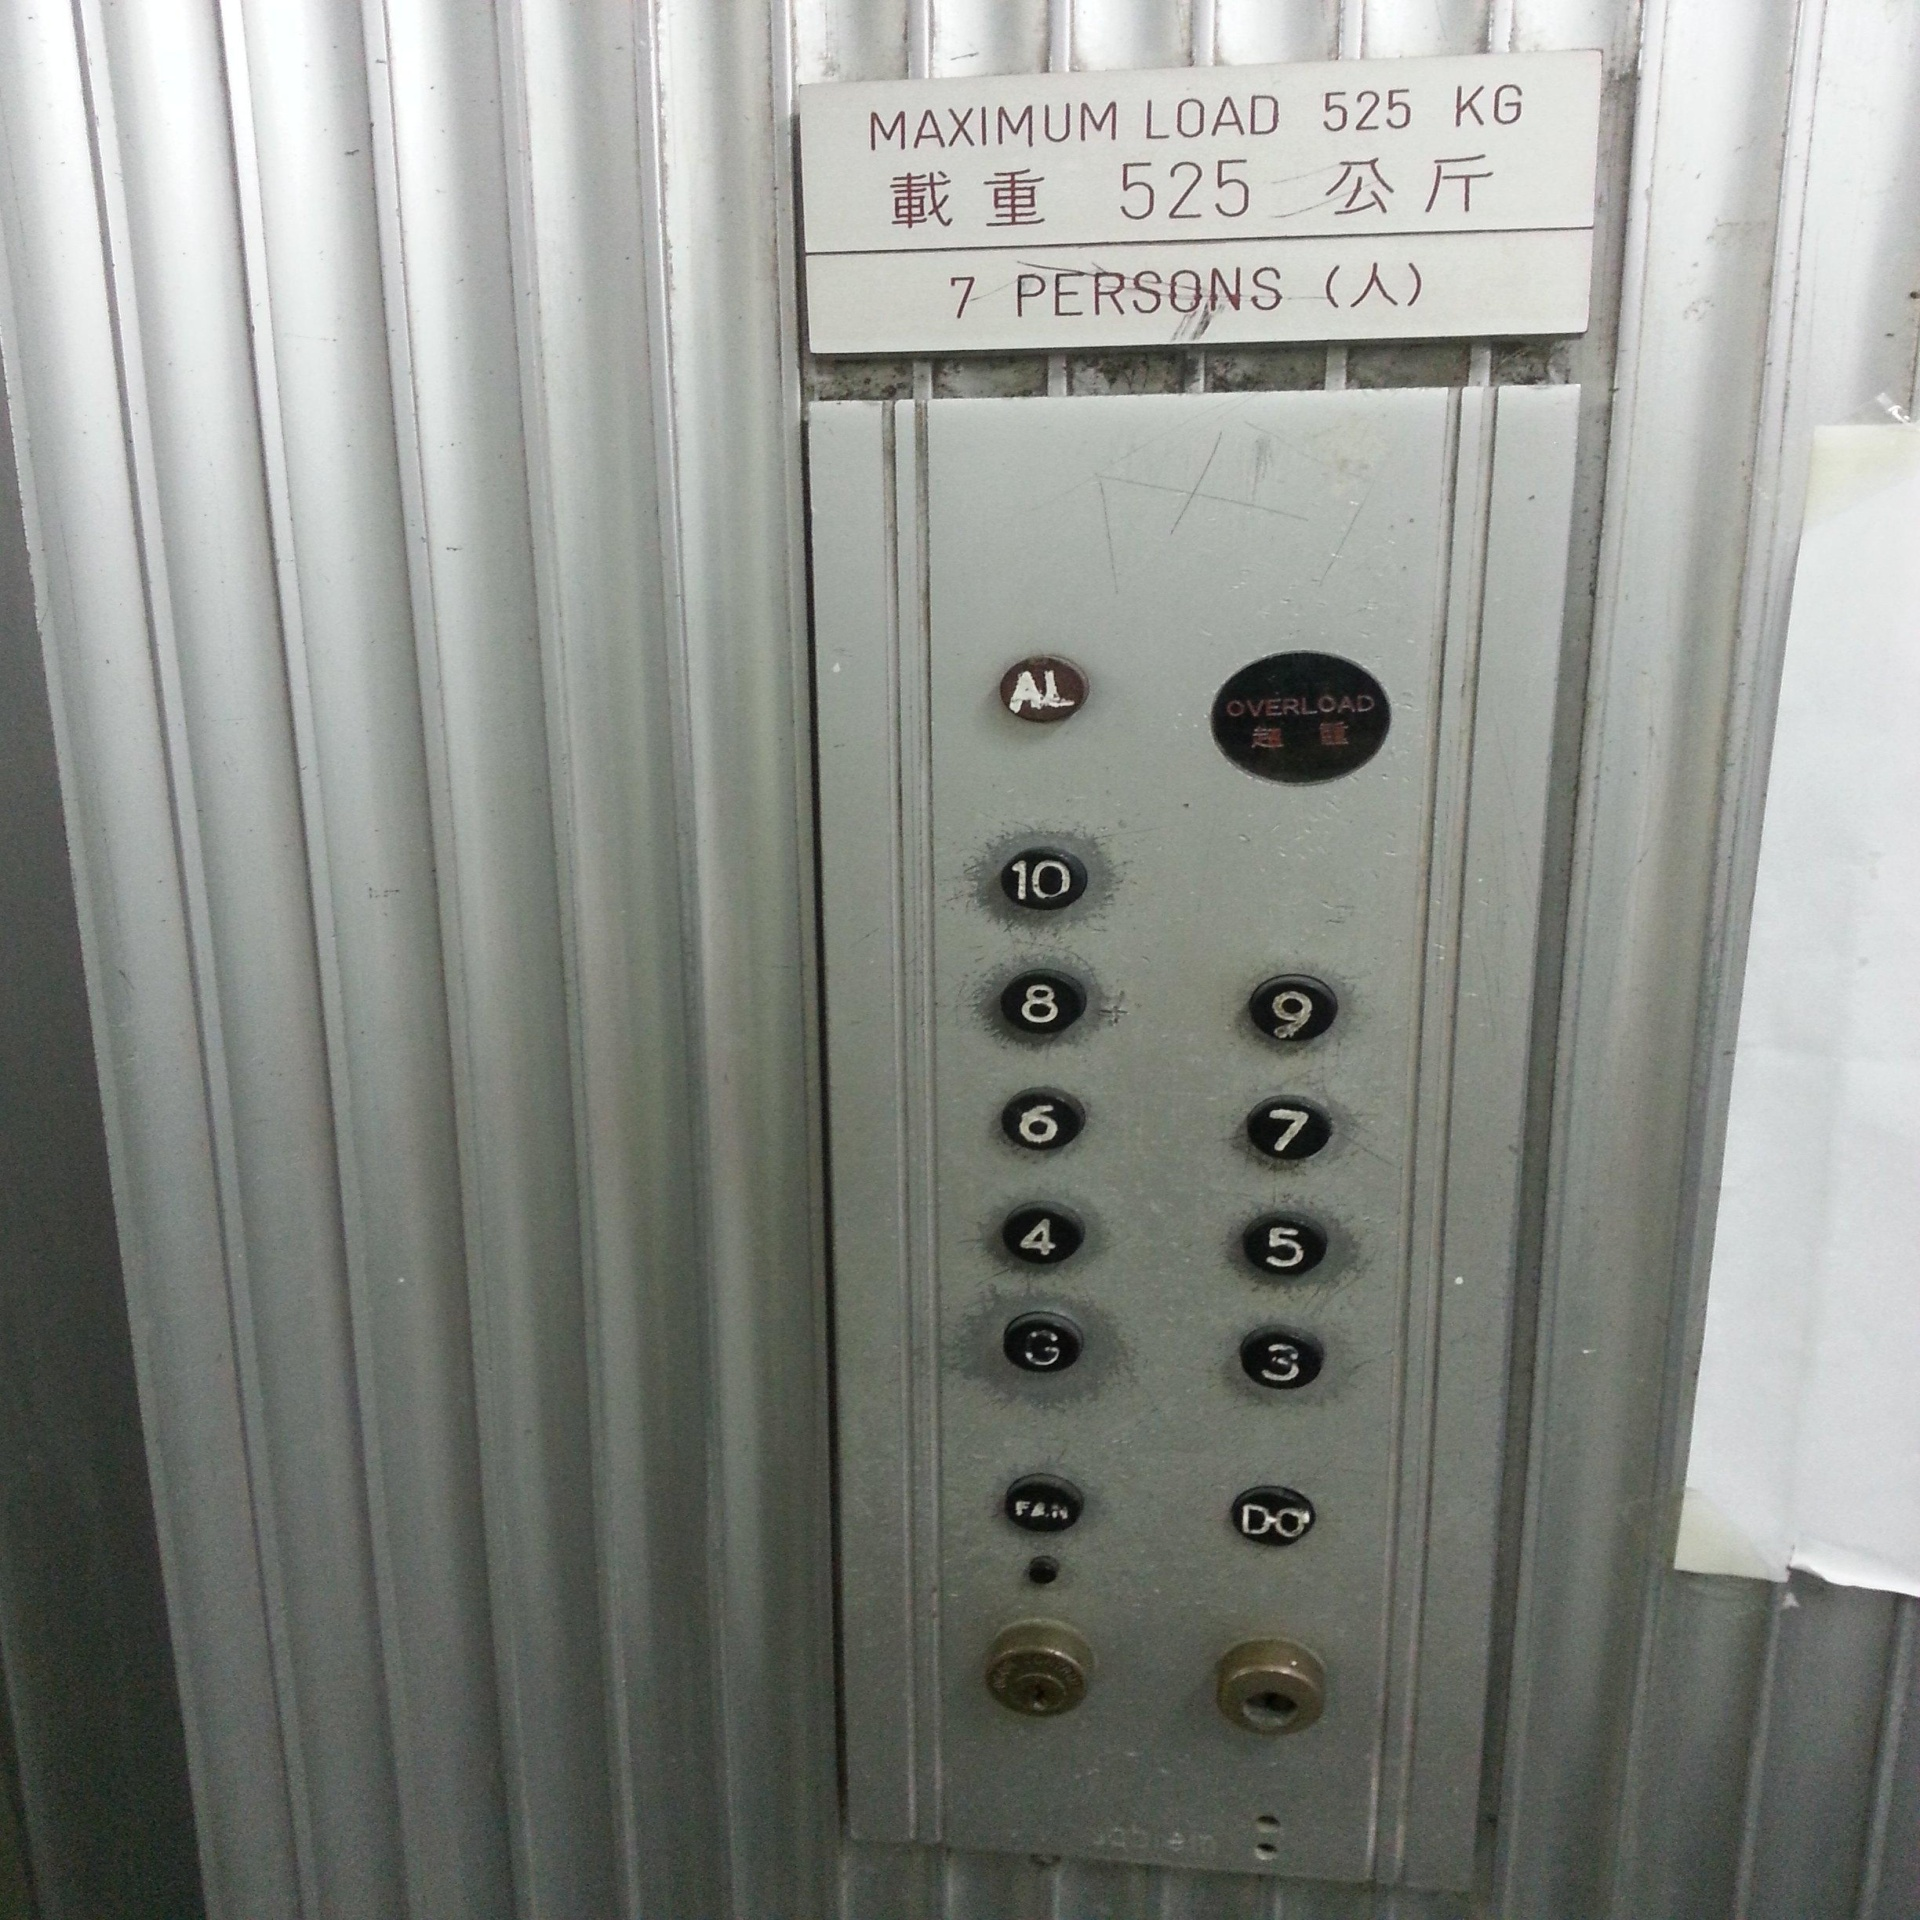10: (997, 846, 1090, 913)
3: (1238, 1322, 1327, 1391)
4: (999, 1197, 1088, 1266)
5: (1240, 1208, 1329, 1278)
6: (999, 1083, 1088, 1153)
7: (1245, 1092, 1333, 1162)
8: (997, 965, 1088, 1036)
9: (1245, 971, 1340, 1044)
AL: (999, 651, 1092, 724)
DO: (1227, 1482, 1317, 1547)
G: (999, 1306, 1087, 1377)
keyhole: (1211, 1635, 1333, 1737), (981, 1616, 1095, 1721)
text_blur: (1002, 1470, 1085, 1533)
text_overload: (1206, 647, 1393, 788)
